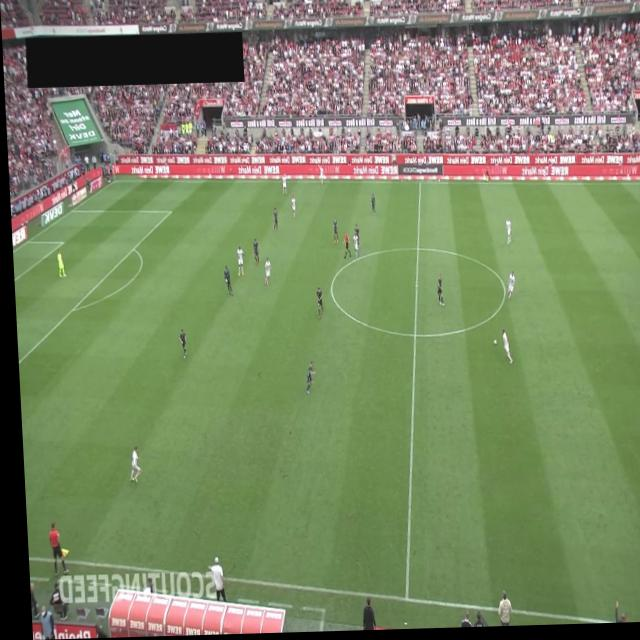goalkeeper: (54, 249, 63, 279)
player: (123, 446, 137, 484), (497, 330, 509, 367), (300, 362, 312, 396), (312, 287, 321, 321), (233, 247, 243, 277), (504, 273, 513, 305), (221, 266, 230, 297), (175, 329, 183, 360), (261, 259, 269, 288), (434, 277, 441, 309), (502, 221, 510, 248), (329, 218, 336, 247), (350, 233, 357, 261), (250, 238, 257, 266), (288, 196, 295, 220), (351, 225, 358, 247), (316, 165, 323, 187), (270, 209, 276, 233), (280, 175, 286, 197), (368, 195, 373, 217)
referee: (42, 521, 63, 576), (340, 233, 349, 260), (482, 165, 489, 186)
